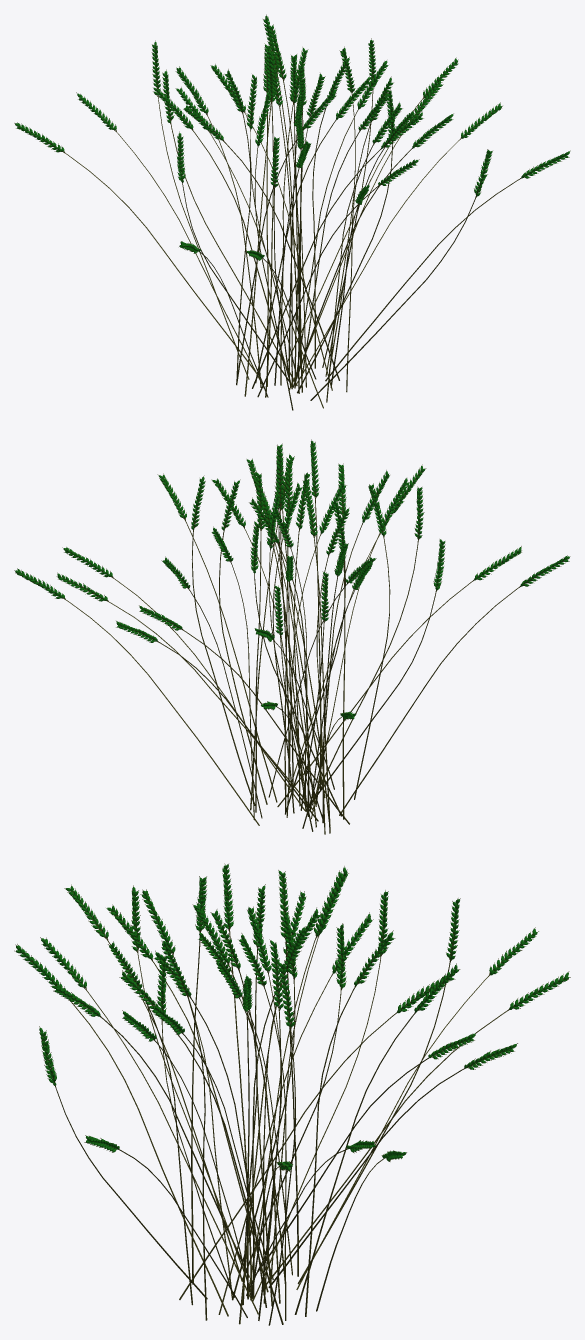
Rendered from wheat.obj.
The picture shows the model from 3 angles, top to bottom: view 1: azimuth 30°, elevation 25°; view 2: azimuth 150°, elevation 25°; view 3: azimuth 270°, elevation 25°; orthographic projection. The views are drawn at different scales.
Parts seen in each view (by area): view 1: trunk, leaves, stems_1; view 2: trunk, leaves, stems_1; view 3: trunk, leaves, stems_1.
Part boxes in pixels (x1=…): trunk: x1=64, y1=39, x2=555, y2=410; leaves: x1=15, y1=16, x2=569, y2=260; stems_1: x1=14, y1=14, x2=570, y2=260; trunk: x1=64, y1=457, x2=539, y2=834; leaves: x1=15, y1=441, x2=569, y2=719; stems_1: x1=14, y1=439, x2=570, y2=720; trunk: x1=48, y1=874, x2=509, y2=1325; leaves: x1=16, y1=864, x2=569, y2=1170; stems_1: x1=14, y1=863, x2=570, y2=1171.
Size of the model in its own units: 0.7986 by 0.5947 by 0.7523.
